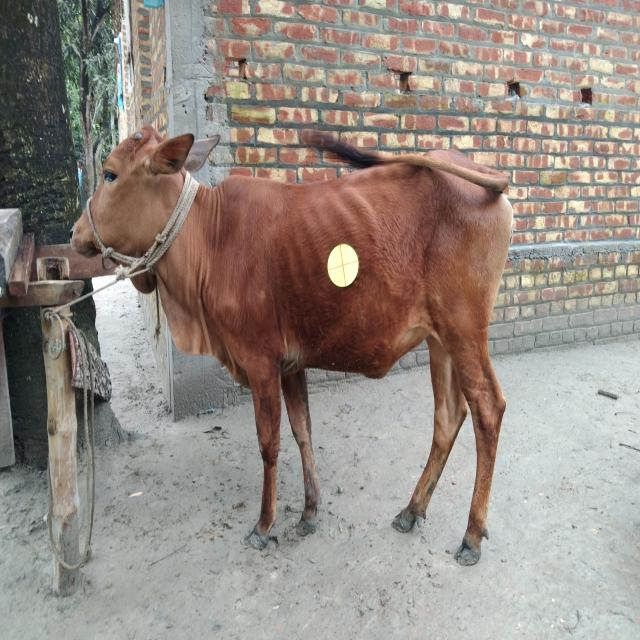badan_sapi: (217, 177, 511, 376)
sapi: (60, 124, 527, 566)
